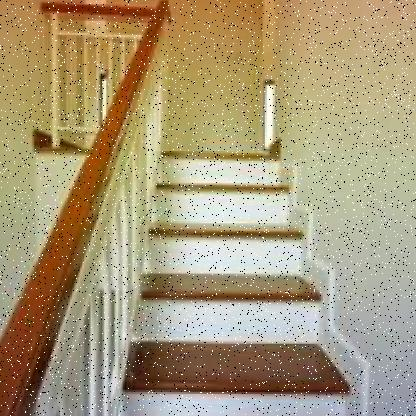stair_up: (124, 227, 355, 410)
